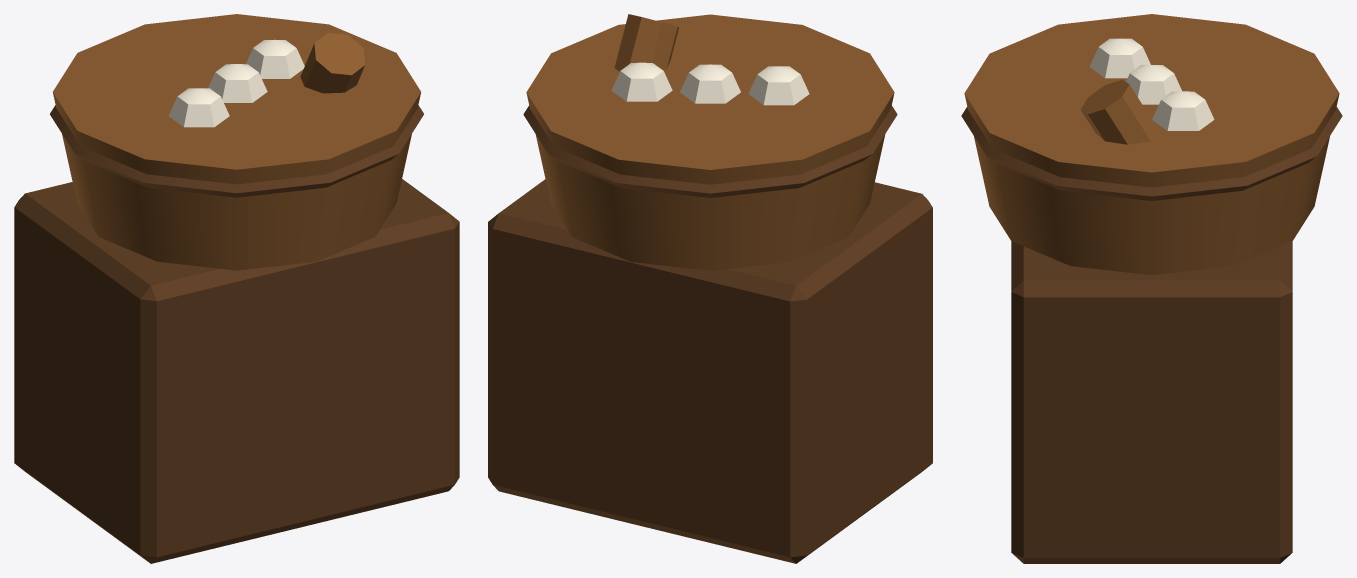
File: PR_Furniture_Legen.fbx
The picture shows the model from 3 angles, left to right: view 1: azimuth 30°, elevation 25°; view 2: azimuth 150°, elevation 25°; view 3: azimuth 270°, elevation 25°; orthographic projection.
Parts seen in each view (by area): view 1: PR_Furniture_Legen; view 2: PR_Furniture_Legen; view 3: PR_Furniture_Legen.
Part boxes in pixels (bbox=[...]): PR_Furniture_Legen: bbox=[14, 14, 459, 563]; PR_Furniture_Legen: bbox=[488, 14, 932, 563]; PR_Furniture_Legen: bbox=[961, 14, 1342, 563].
Size of the model in its own units: 0.61 by 0.7858 by 0.61.
